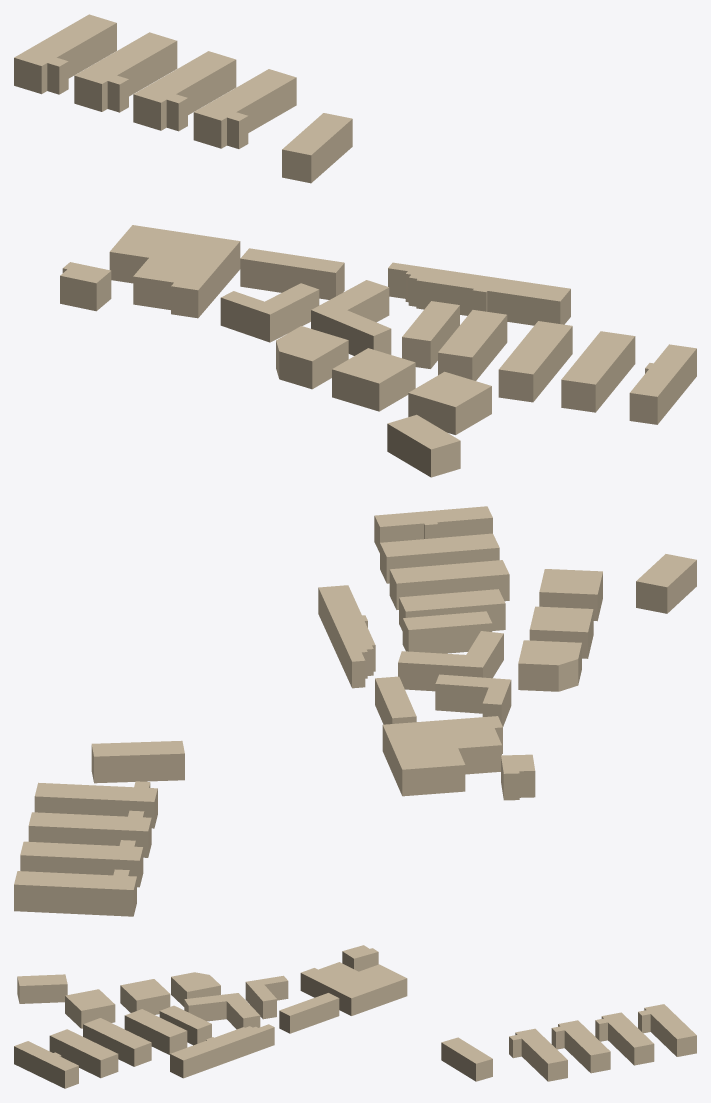
The model's file is -11_11-estimated-coarse.glb.
3 views of the same model, one above another, from view 1: azimuth 30°, elevation 25°; view 2: azimuth 150°, elevation 25°; view 3: azimuth 270°, elevation 25° (orthographic). The views are drawn at different scales.
Size of the model in its own units: 226 by 15 by 517.
